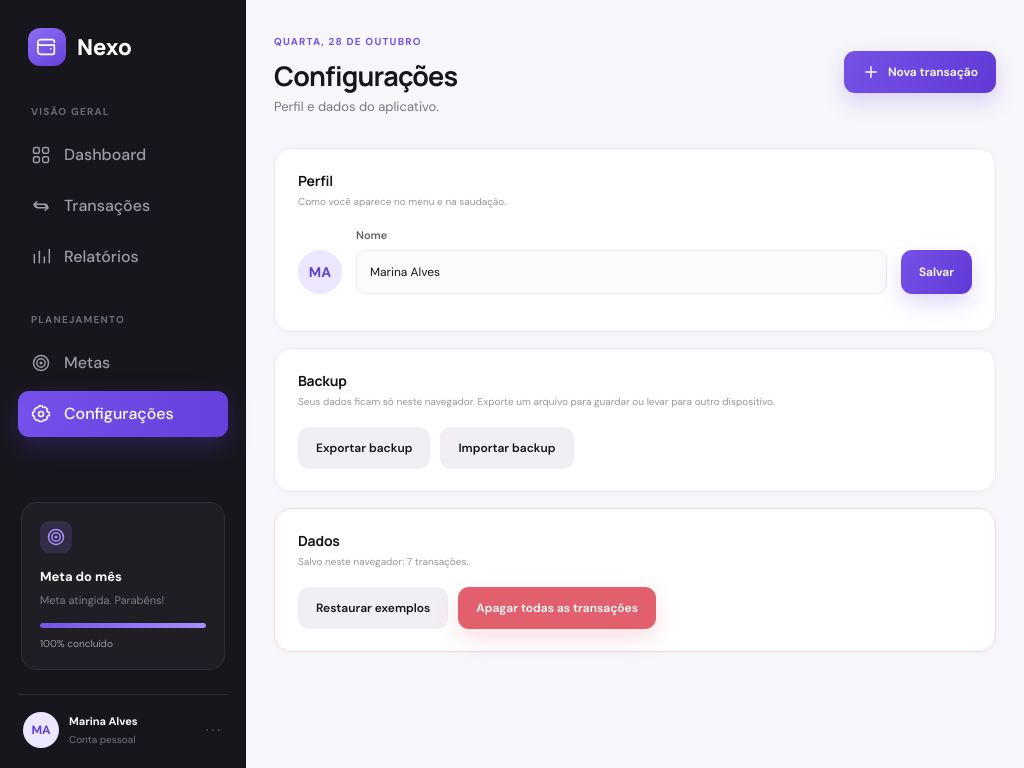
Test: Página Configurações › altera o nome do perfil, usado no menu e na saudação
Replace the text in the field labelled "Nome" with "Ana Souza" at [621, 272], box [356,250,887,294]
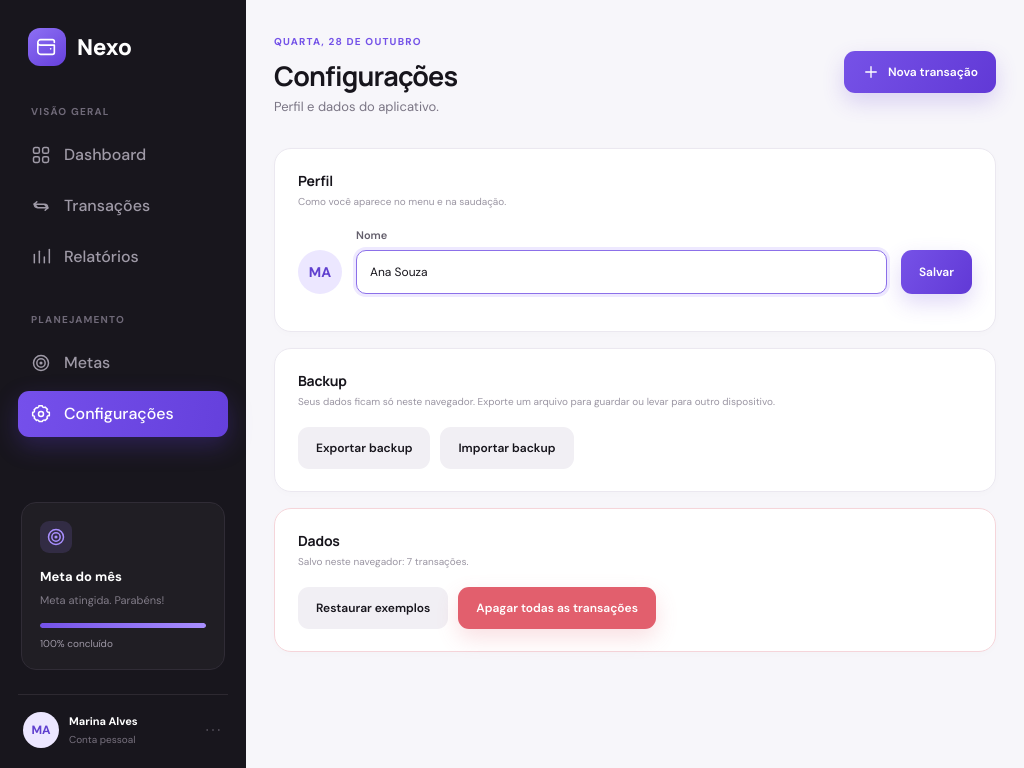
Click the button "Salvar" at [936, 272], box [901,250,972,294]
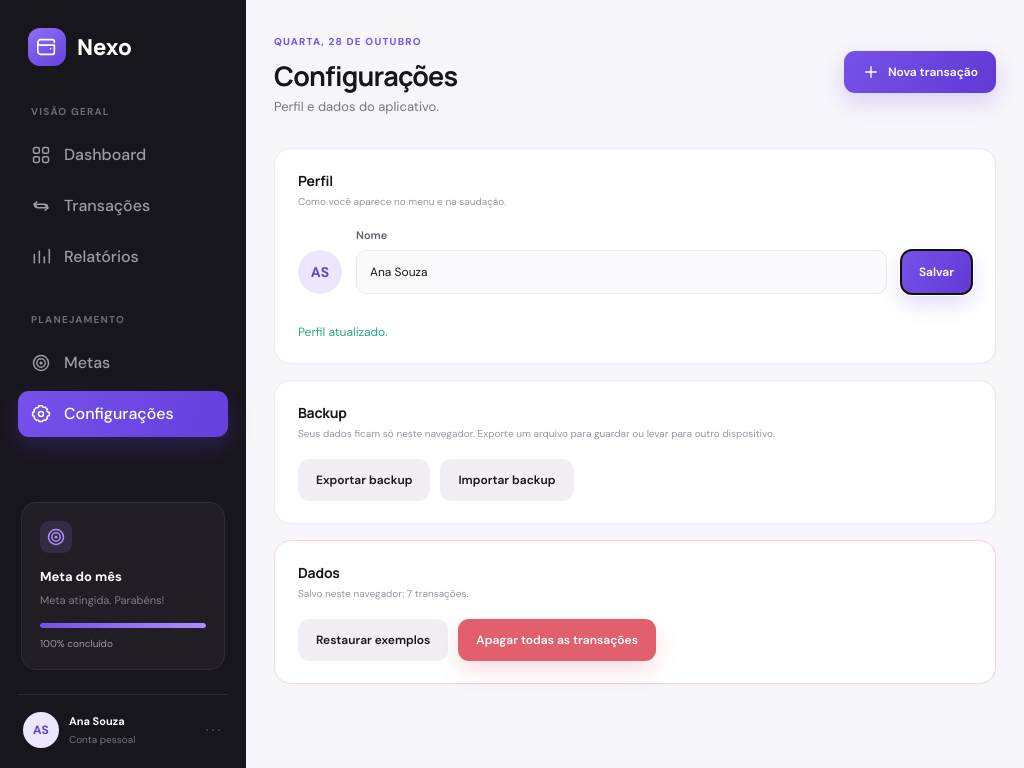
expect the text "AS" next to "Ana Souza" is shown: met, box [33,722,49,738]
expect the message reads "Perfil atualizado.": met, box [298,324,388,340]
expect the text "Ana Souza" is shown: met, box [69,714,125,728]
Click the link "Dashboard" at [89, 154], box [31,144,146,165]
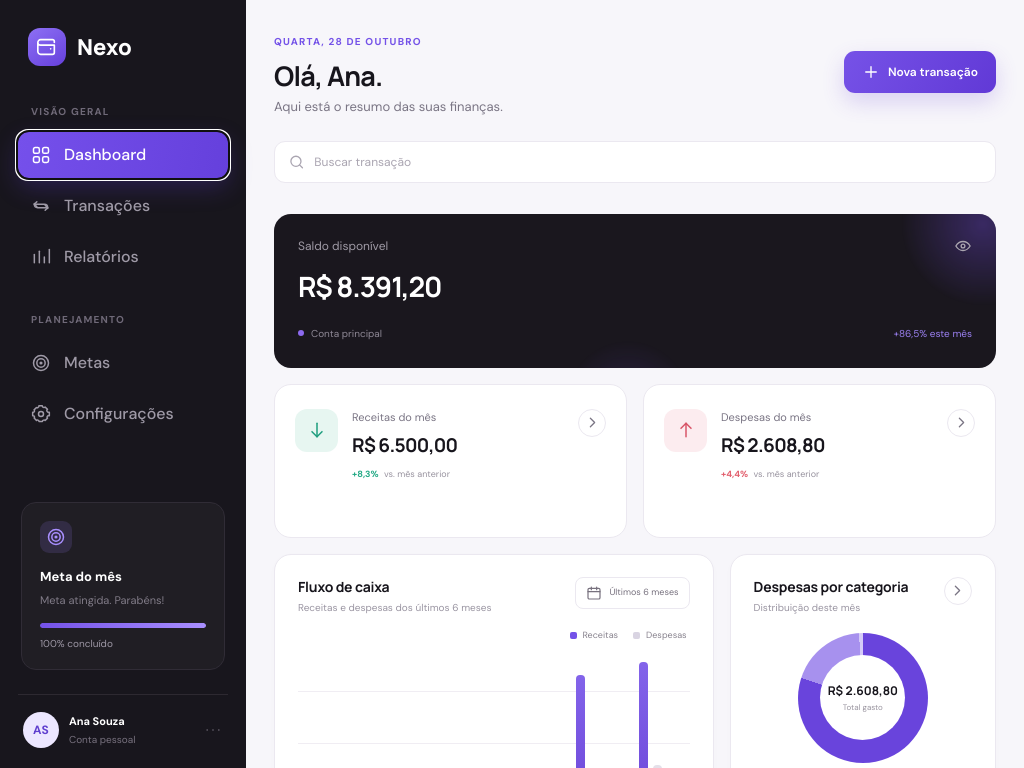
expect the heading "Olá, Ana." is shown: met, box [274,57,382,94]
